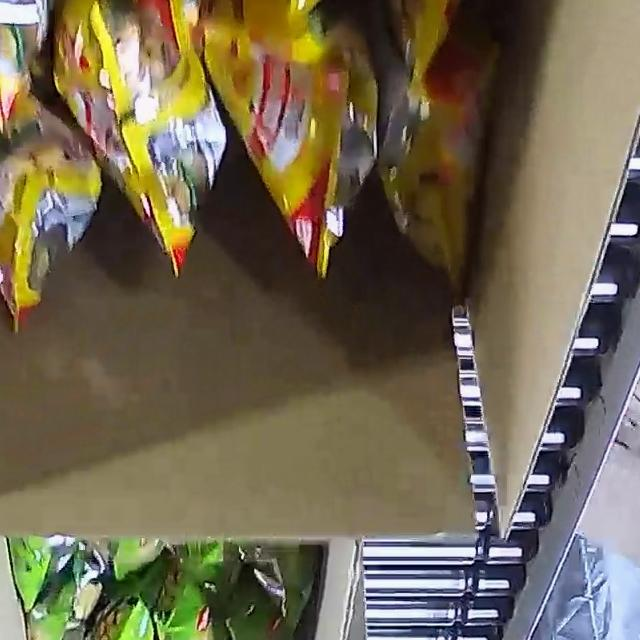salted: (0, 0, 532, 334)
yogurt: (0, 513, 300, 640)
